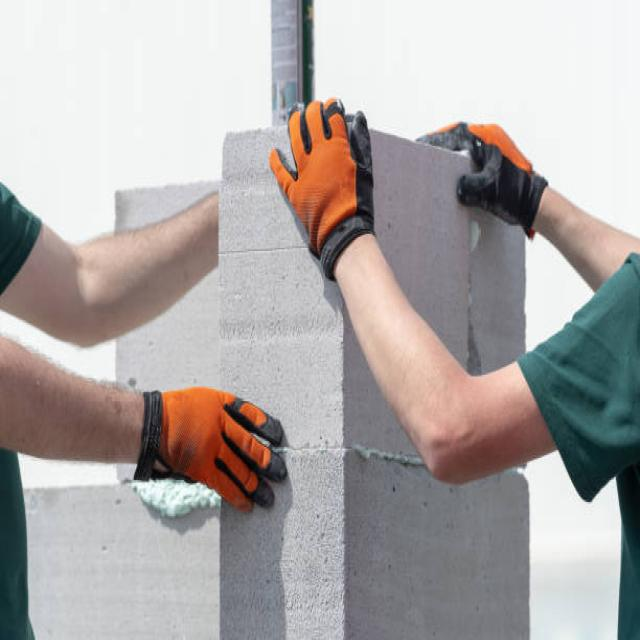gloves: (268, 96, 380, 279), (135, 386, 290, 513), (415, 119, 549, 245)
